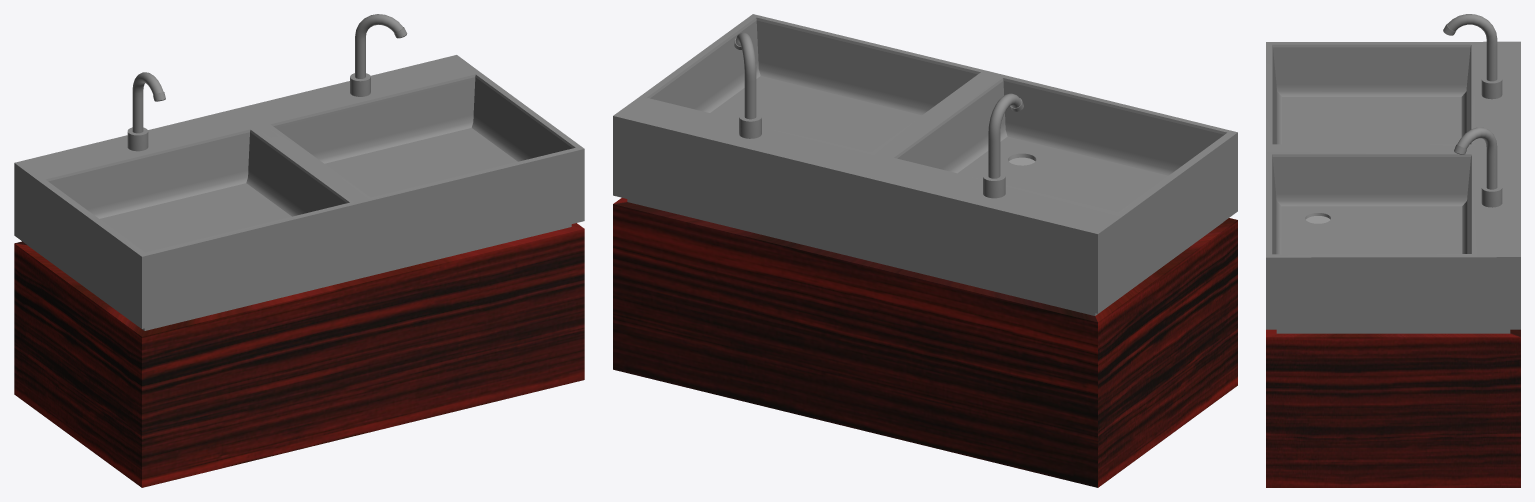
File: sink.fbx
3 renders of one model, left to right at view 1: azimuth 30°, elevation 25°; view 2: azimuth 150°, elevation 25°; view 3: azimuth 270°, elevation 25°, orthographic. The views are drawn at different scales.
Parts seen in each view (by area): view 1: directionalLight2; view 2: directionalLight2; view 3: directionalLight2.
Part boxes in pixels (x1,y1,x2,y2): directionalLight2: [14, 14, 584, 487]; directionalLight2: [613, 14, 1237, 487]; directionalLight2: [1266, 14, 1520, 487].
Bounding box in the file's own units: 16 × 10.79 × 8.
4 materials, 1 textured.
